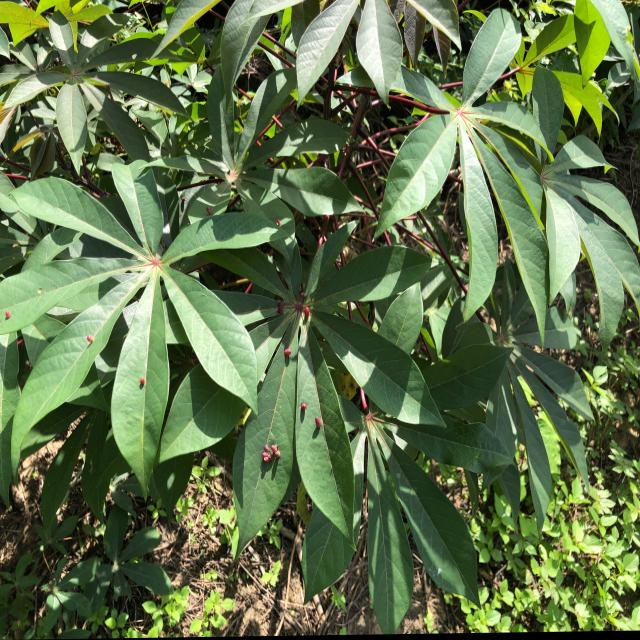Mosca: (268, 285, 319, 328), (253, 434, 292, 476), (263, 328, 303, 367), (294, 400, 334, 438), (80, 319, 106, 352), (0, 297, 21, 332), (262, 211, 291, 234), (199, 195, 218, 227), (130, 372, 152, 391)
